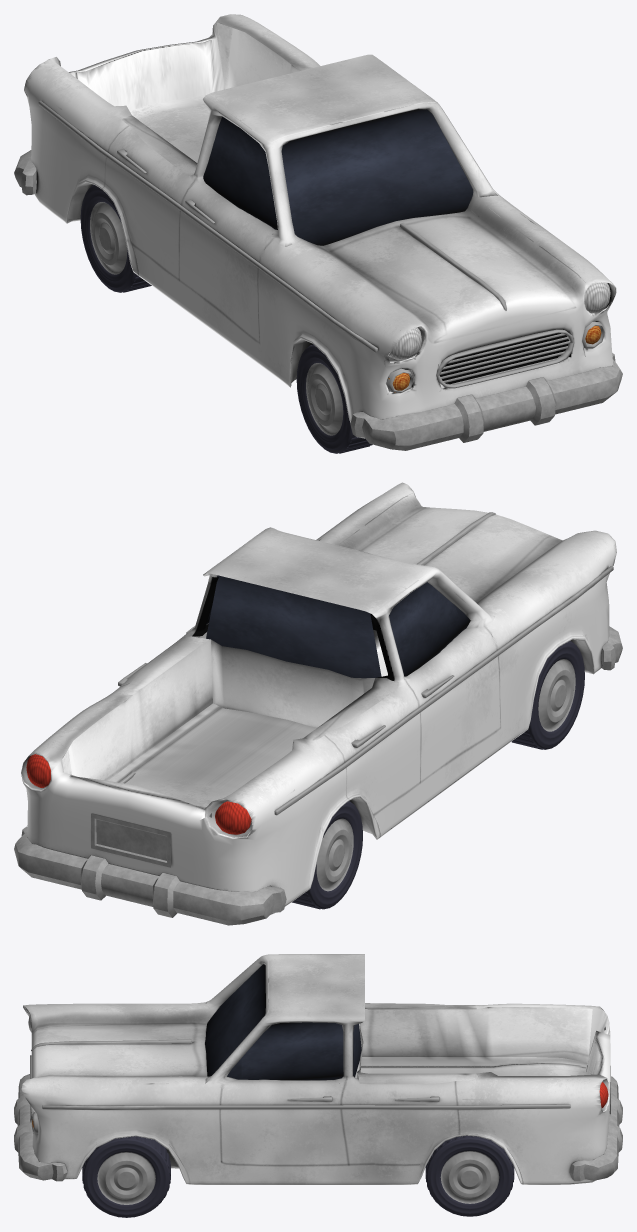
Rendered from truck.fbx.
3 renders of one model, top to bottom at view 1: azimuth 30°, elevation 25°; view 2: azimuth 150°, elevation 25°; view 3: azimuth 270°, elevation 25°, orthographic. The views are drawn at different scales.
Visible parts, largest first — view 1: Cube; view 2: Cube; view 3: Cube.
Part boxes in pixels (box(x1,y1,x2,y2)): Cube: box(14, 14, 622, 453); Cube: box(14, 482, 622, 925); Cube: box(14, 954, 622, 1217).
Size of the model in its own units: 8.74 by 7.58 by 22.51.
Materials: 6 (4 with a texture image).
